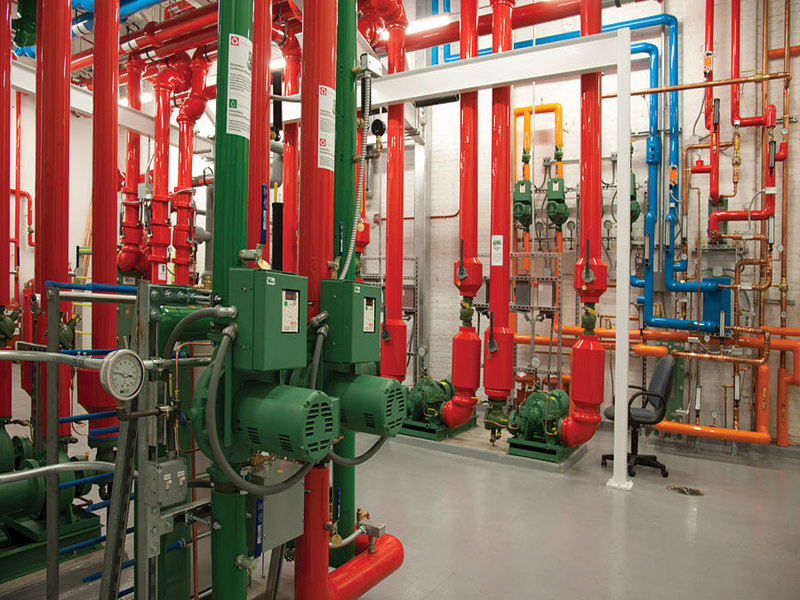valve: (735, 64, 771, 84), (731, 128, 743, 161), (499, 417, 511, 425)
